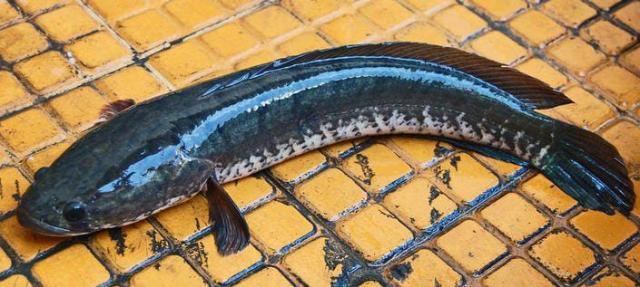Mulut: (195, 37, 579, 119), (0, 178, 94, 260)
Sirip Anal: (436, 123, 536, 182)
Sirip Dada: (181, 160, 265, 274)
Sirip Ekor: (530, 116, 640, 222)
